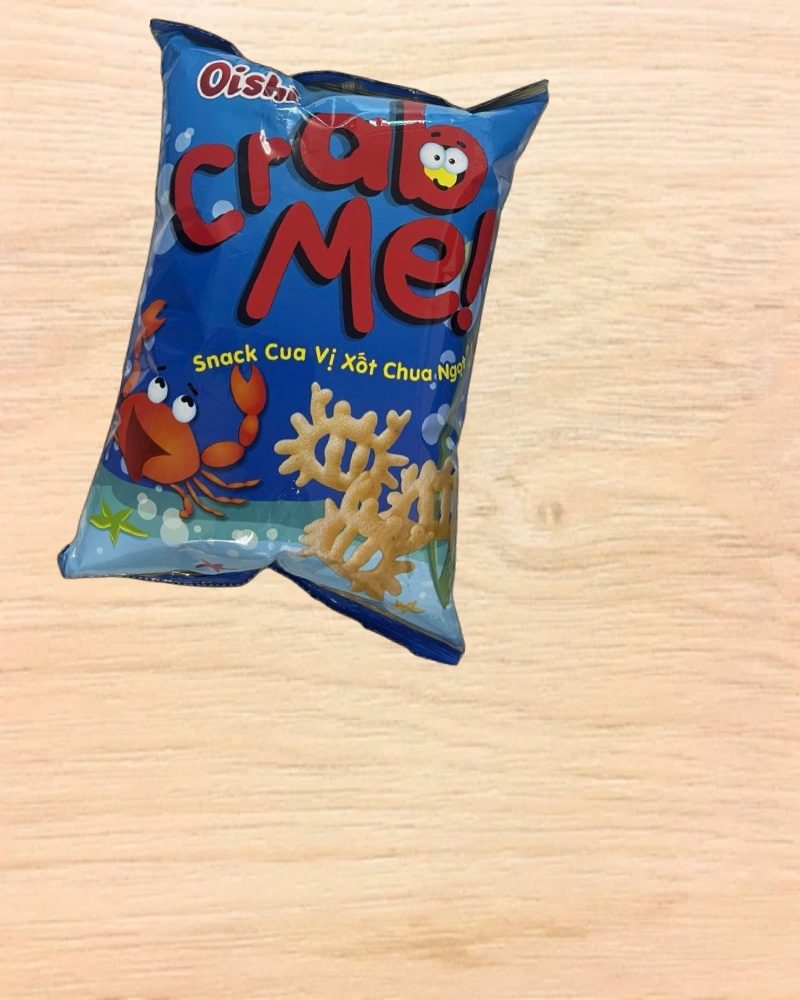Snack chay: (50, 11, 565, 669)
